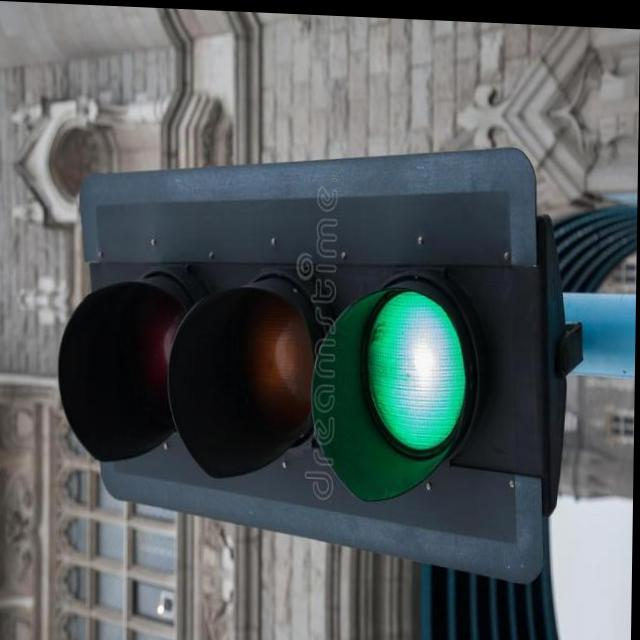green light: (50, 197, 519, 509)
